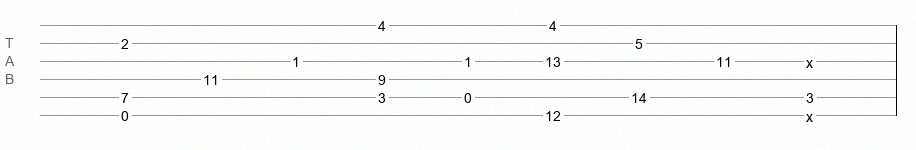0: (121, 108, 129, 118), (464, 90, 472, 100)
1: (292, 54, 300, 64), (464, 54, 472, 64)
11: (203, 72, 219, 82), (716, 54, 732, 64)
12: (545, 108, 561, 118)
13: (545, 54, 561, 64)
14: (631, 90, 647, 100)
2: (121, 36, 129, 46)
3: (378, 90, 386, 100), (806, 90, 814, 100)
4: (378, 18, 386, 28), (549, 18, 557, 28)
5: (635, 36, 643, 46)
7: (121, 90, 129, 100)
9: (378, 72, 386, 82)
x: (806, 109, 813, 117), (806, 55, 813, 63)
